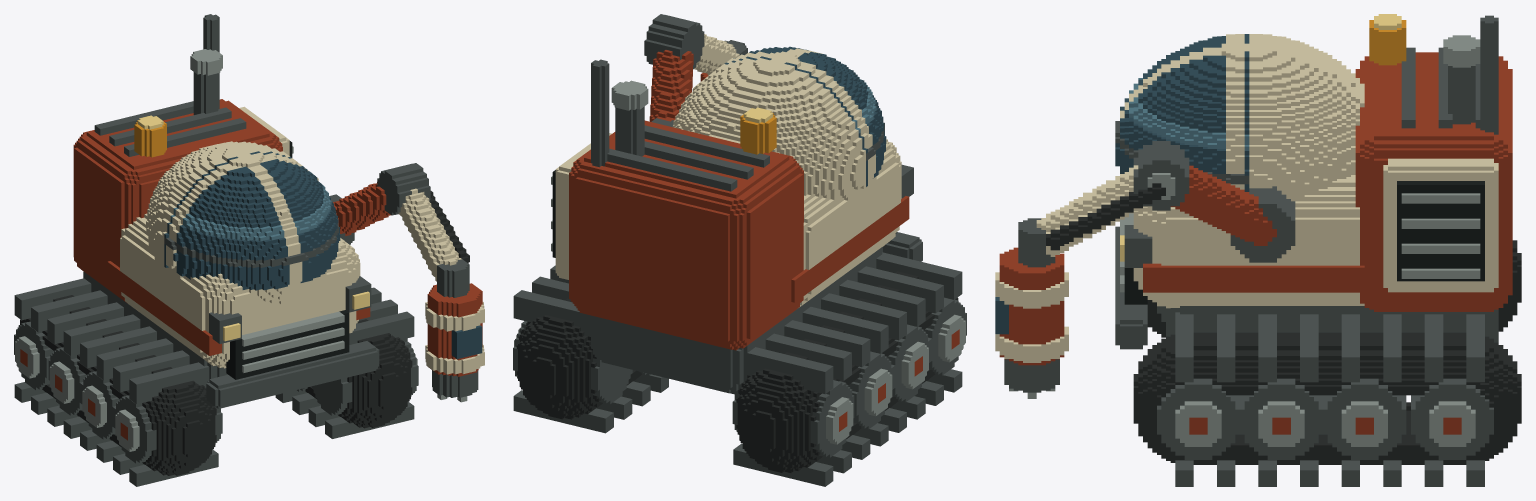
File: thermal_rover.glb
3 renders of one model, left to right at view 1: azimuth 30°, elevation 25°; view 2: azimuth 150°, elevation 25°; view 3: azimuth 270°, elevation 25°, orthographic. The views are drawn at different scales.
Parts seen in each view (by area): view 1: thermal_rover; view 2: thermal_rover; view 3: thermal_rover.
Part boxes in pixels (box(x1,y1,x2,y2)): thermal_rover: box(14, 14, 484, 486); thermal_rover: box(513, 14, 966, 486); thermal_rover: box(995, 14, 1521, 486).
Bounding box in the file's own units: 3.22 × 3.5 × 3.99.
